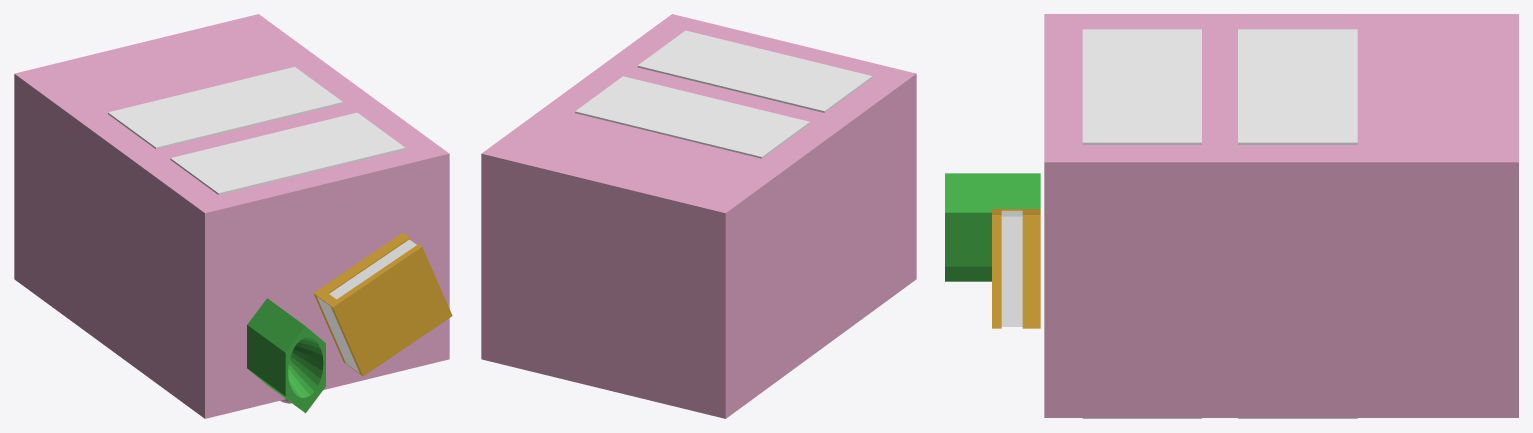
The model's file is tinker.obj.
3 renders of one model, left to right at view 1: azimuth 30°, elevation 25°; view 2: azimuth 150°, elevation 25°; view 3: azimuth 270°, elevation 25°, orthographic. The views are drawn at different scales.
Parts seen in each view (by area): view 1: group_0_15708628, group_0_16448250, group_0_14789940, group_0_4634441; view 2: group_0_15708628, group_0_16448250; view 3: group_0_15708628, group_0_16448250, group_0_4634441, group_0_14789940.
Boxes of the visible parts, x1,y1,x2,y2 form: group_0_15708628: (14,14,449,418); group_0_16448250: (108,67,416,373); group_0_14789940: (313,232,452,376); group_0_4634441: (247,298,325,413); group_0_15708628: (481,14,916,418); group_0_16448250: (575,30,872,158); group_0_15708628: (1044,14,1518,417); group_0_16448250: (1001,29,1357,418); group_0_4634441: (945,173,1040,281); group_0_14789940: (992,209,1040,328).
Bounding box in the file's own units: 58.69 × 57 × 96.
